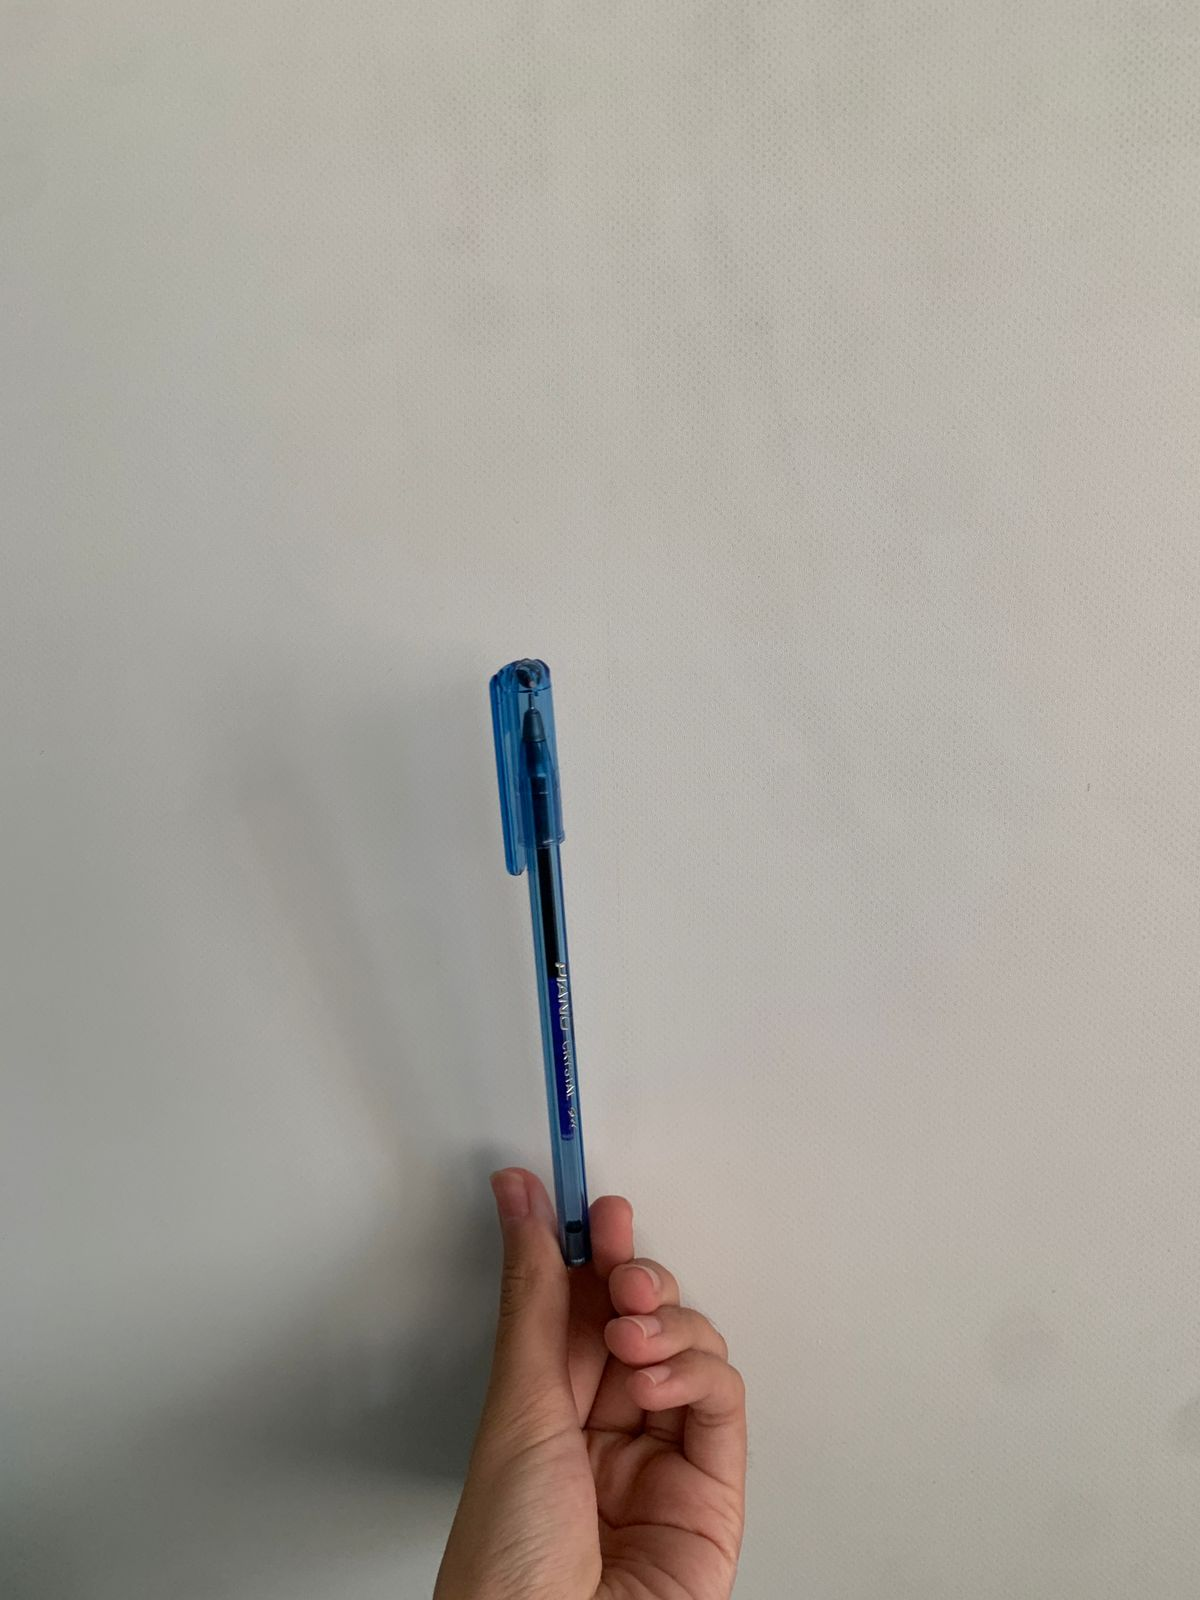pen: (311, 535, 928, 1466)
